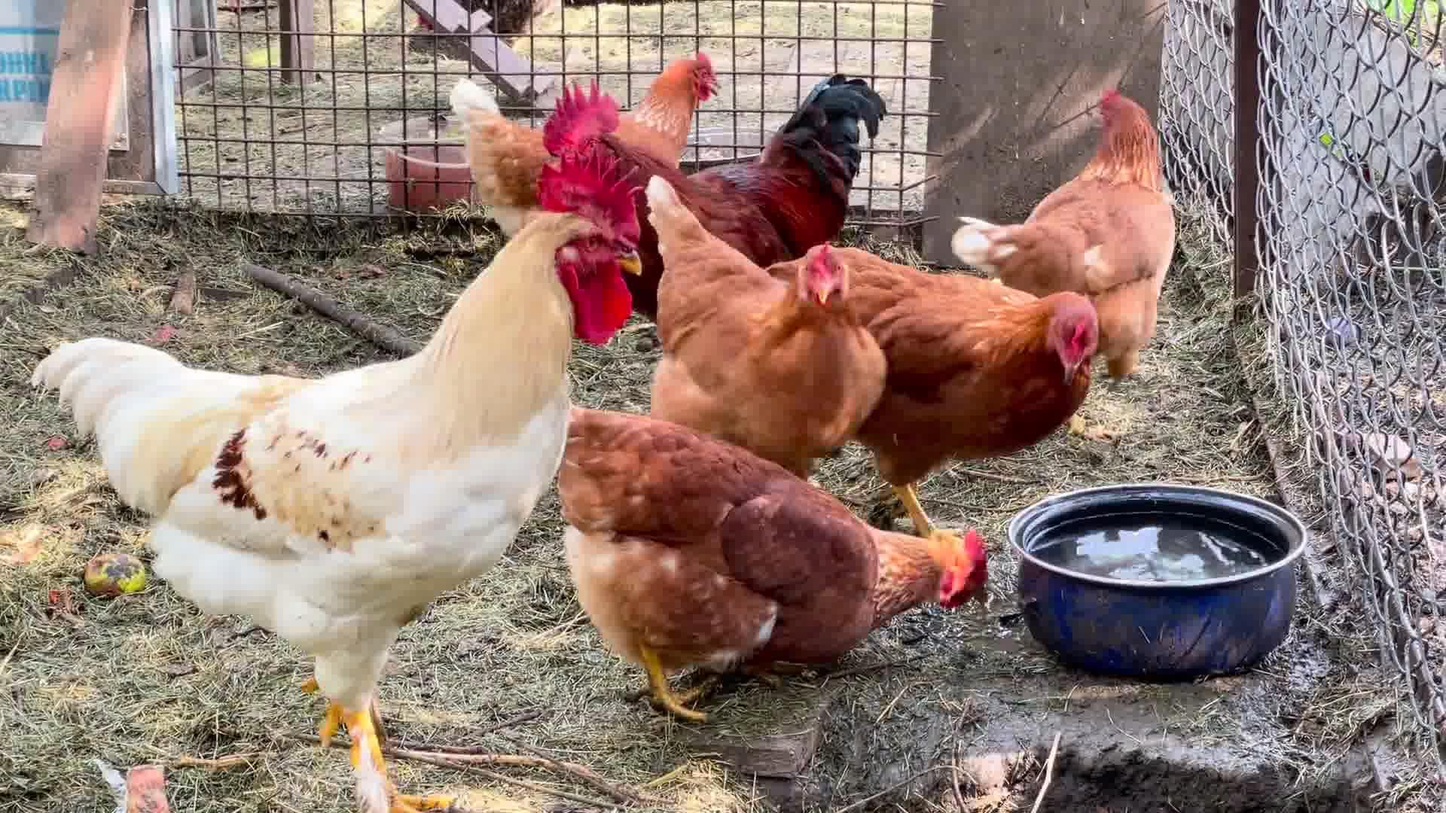Normal: (34, 142, 649, 795), (622, 187, 1125, 505), (577, 403, 1009, 718), (426, 62, 924, 271), (961, 81, 1213, 372), (642, 202, 894, 470), (870, 258, 1117, 514)
